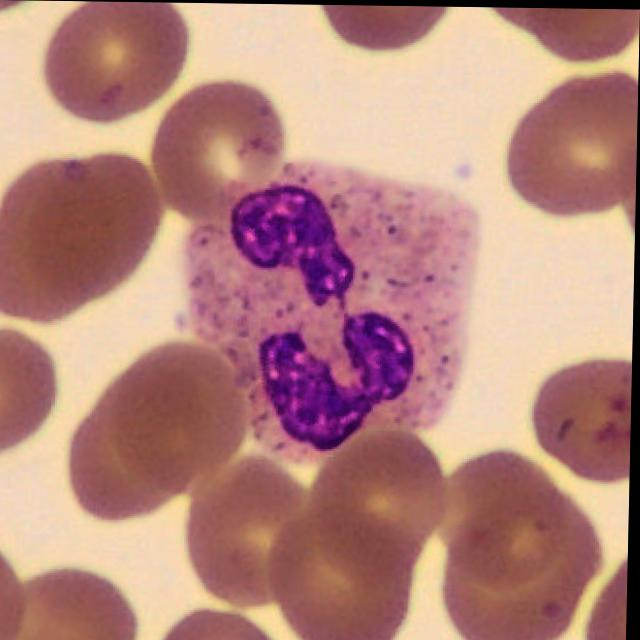Neutrofilo segmentado: (186, 157, 483, 465)
